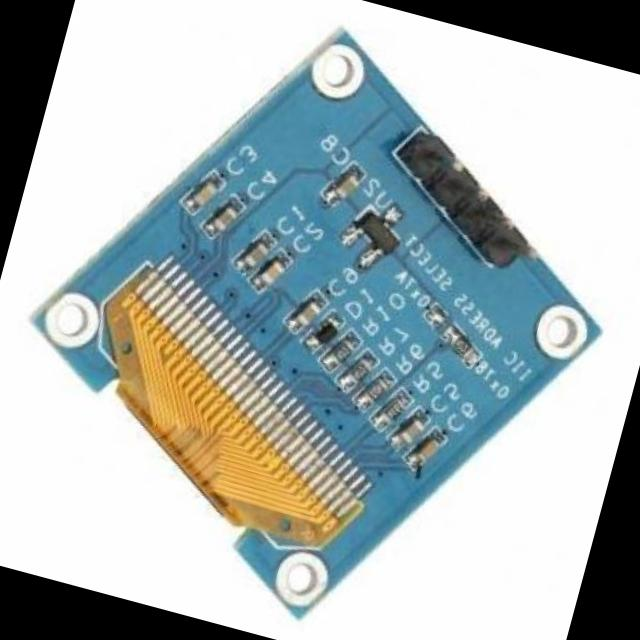capacitor: (180, 174, 223, 212), (329, 165, 365, 209), (290, 291, 326, 333), (411, 428, 446, 470), (256, 252, 290, 292), (237, 240, 271, 274), (394, 412, 426, 447), (212, 201, 238, 236)
connector: (384, 140, 567, 261)
diode: (308, 314, 347, 352)
resistor: (376, 392, 410, 432), (439, 329, 478, 361), (360, 373, 390, 412), (343, 358, 374, 394), (328, 338, 357, 374)
transistor: (333, 192, 411, 274)
